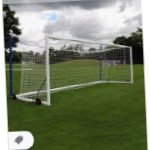goals: (16, 33, 136, 109)
